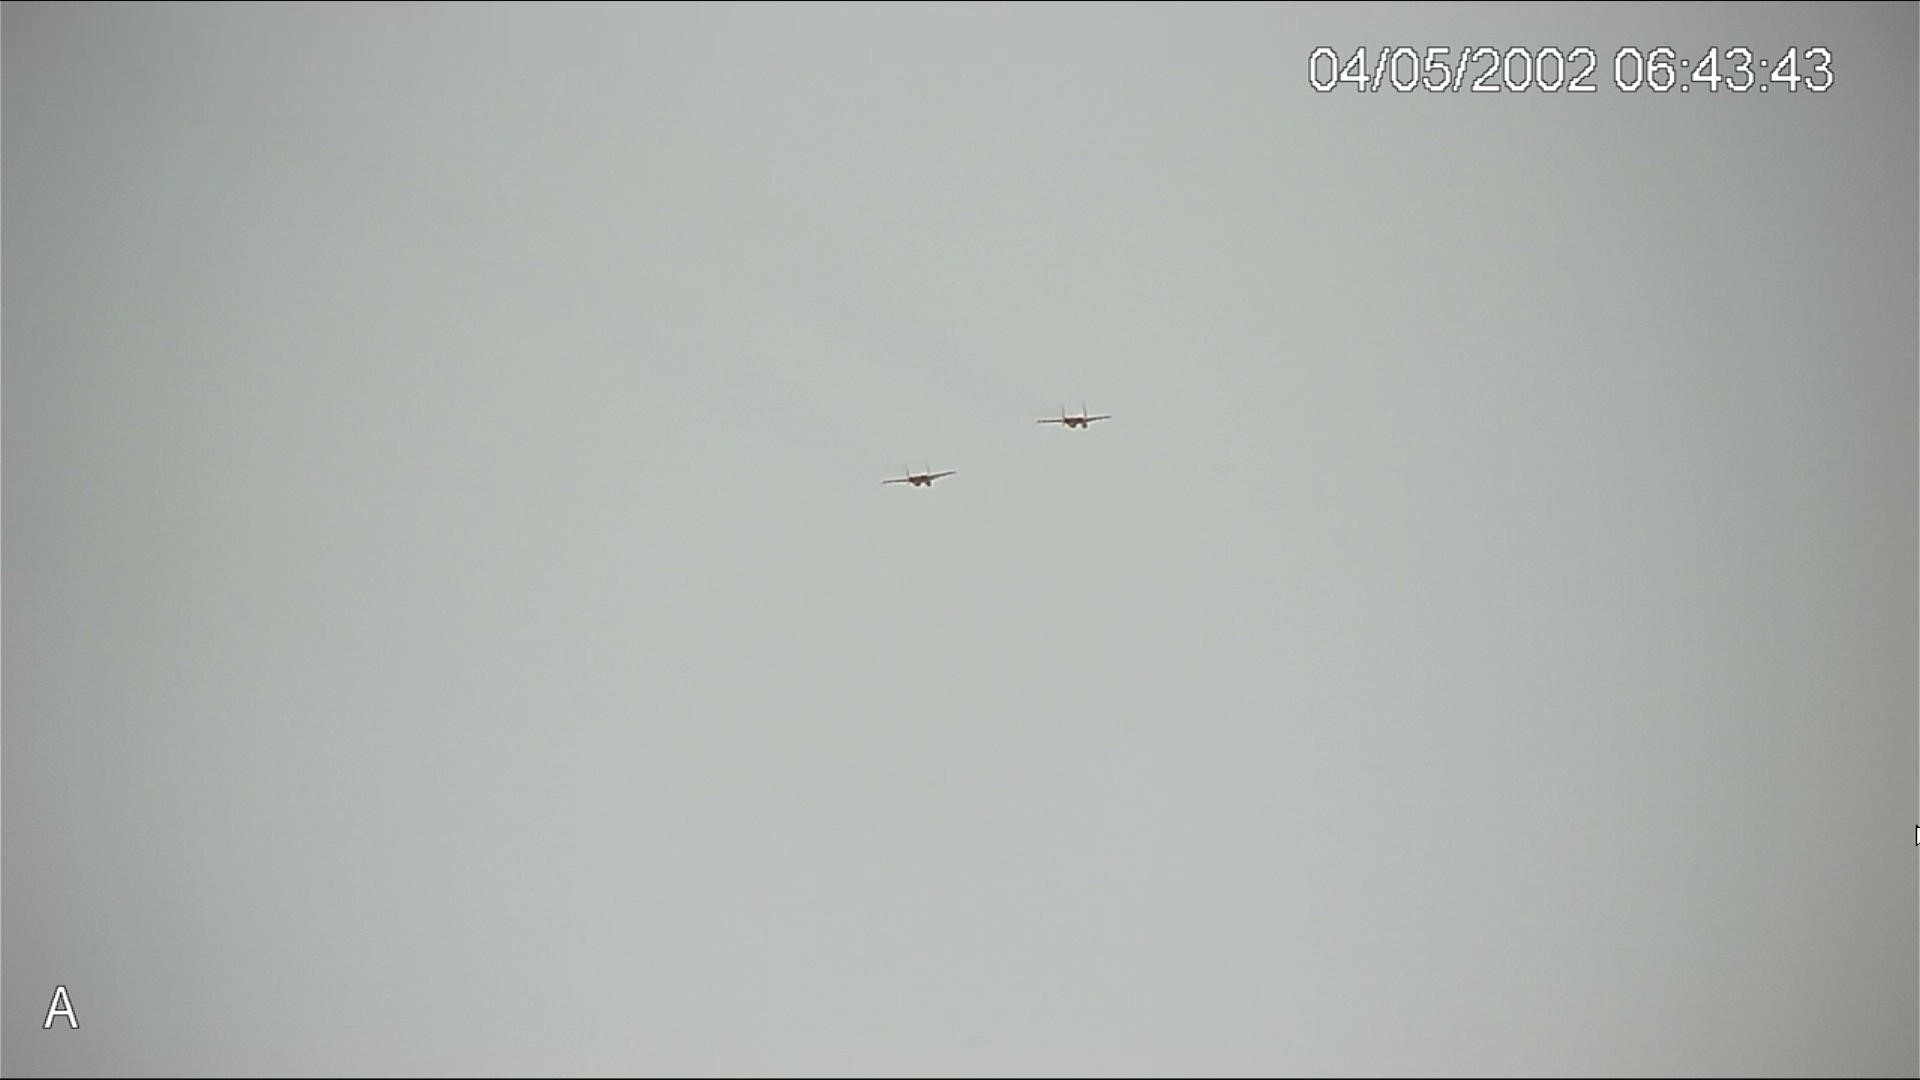SU_30: (1036, 397, 1118, 435), (884, 454, 959, 495)
